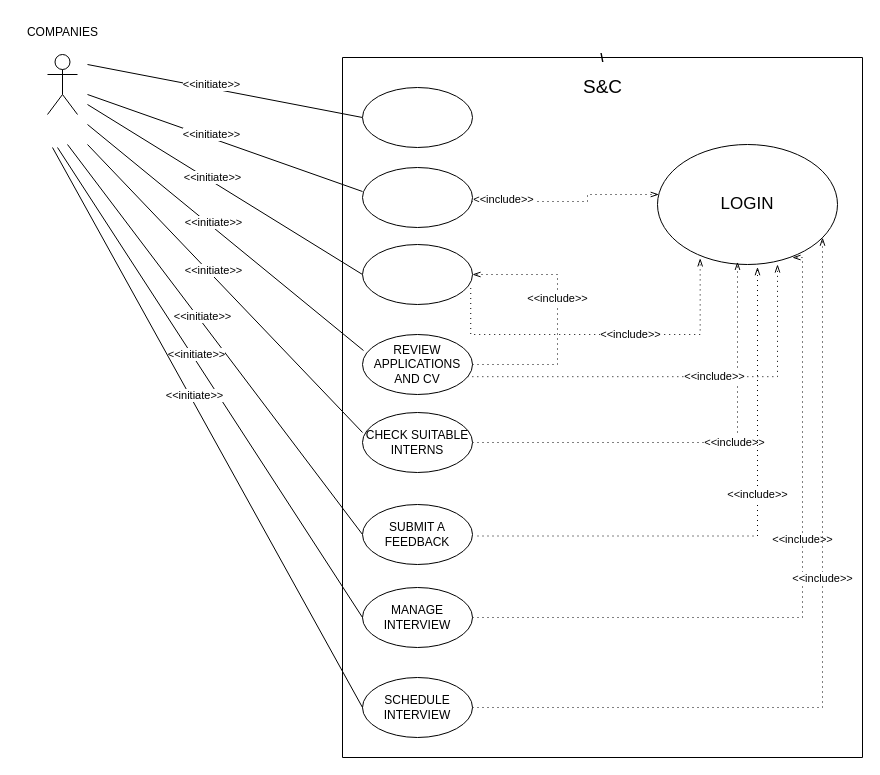
Image size: 880x775. Some labels were removed from this diagram. The shapes that lost their labels are listed below. From the top down, each one's centre as x and y in pixels, then its label:
(x=62, y=84): Actor
(x=417, y=117): REGISTER
(x=417, y=197): ADD INTERSHIP
(x=417, y=274): MANAGE APPLICATIONS
